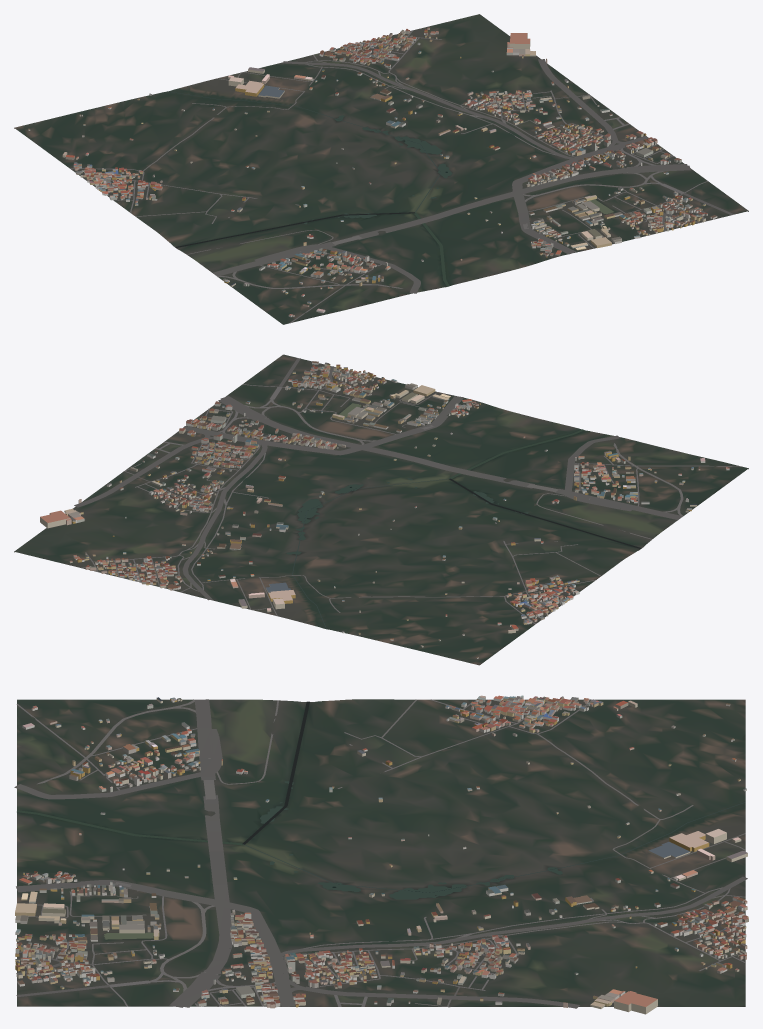
The picture shows the model from 3 angles, top to bottom: view 1: azimuth 30°, elevation 25°; view 2: azimuth 150°, elevation 25°; view 3: azimuth 270°, elevation 25°; orthographic projection. The views are drawn at different scales.
Visible parts, largest first — view 1: ground, buildings, roads, water; view 2: ground, buildings, roads, water; view 3: ground, buildings, roads, water.
Boxes of the visible parts, x1,y1,x2,y2 form: ground: (14, 14, 748, 324); buildings: (28, 27, 717, 317); roads: (70, 30, 733, 323); water: (167, 91, 613, 286); ground: (14, 354, 748, 665); buildings: (40, 361, 729, 658); roads: (74, 358, 741, 624); water: (286, 403, 641, 628); ground: (17, 699, 745, 1006); buildings: (15, 695, 748, 1014); roads: (14, 699, 747, 1008); water: (17, 701, 745, 939).
Size of the model in its own units: 1440 by 30.49 by 1414.
